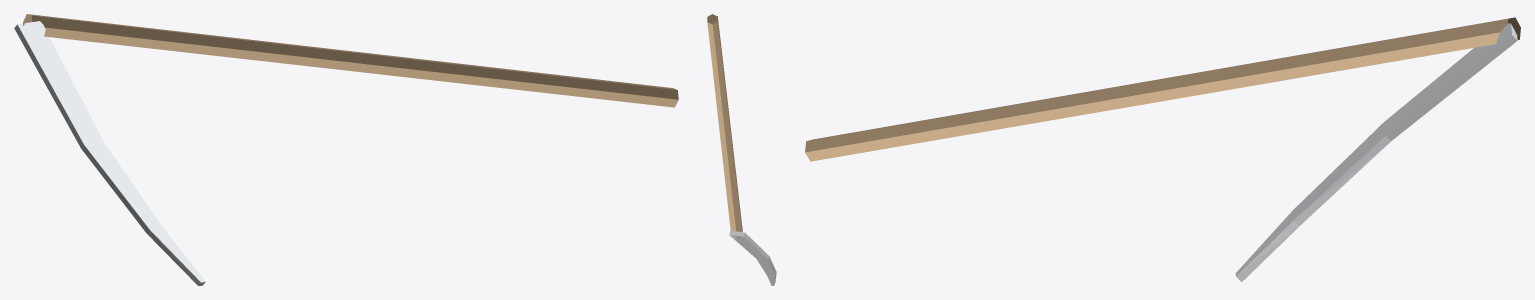
Rendered from prop_scythe_female.glb.
3 views of the same model, side by side, from view 1: azimuth 30°, elevation 25°; view 2: azimuth 150°, elevation 25°; view 3: azimuth 270°, elevation 25° (orthographic). The views are drawn at different scales.
Parts seen in each view (by area): view 1: Arm.R.Lower.Scythe.Snath, Arm.R.Lower.Scythe.Blade, Arm.R.Lower.Scythe.Blade#2, Arm.R.Lower.Scythe.Blade#3; view 2: Arm.R.Lower.Scythe.Snath, Arm.R.Lower.Scythe.Blade, Arm.R.Lower.Scythe.Blade#2, Arm.R.Lower.Scythe.Blade#3; view 3: Arm.R.Lower.Scythe.Snath, Arm.R.Lower.Scythe.Blade, Arm.R.Lower.Scythe.Blade#2, Arm.R.Lower.Scythe.Blade#3.
Boxes of the visible parts, left/top/right/bottom form: Arm.R.Lower.Scythe.Snath: left=23, top=14, right=678, bottom=107; Arm.R.Lower.Scythe.Blade: left=14, top=21, right=103, bottom=147; Arm.R.Lower.Scythe.Blade#2: left=81, top=141, right=162, bottom=233; Arm.R.Lower.Scythe.Blade#3: left=147, top=228, right=205, bottom=285; Arm.R.Lower.Scythe.Snath: left=707, top=14, right=742, bottom=238; Arm.R.Lower.Scythe.Blade: left=729, top=231, right=769, bottom=259; Arm.R.Lower.Scythe.Blade#2: left=756, top=256, right=776, bottom=276; Arm.R.Lower.Scythe.Blade#3: left=767, top=273, right=776, bottom=285; Arm.R.Lower.Scythe.Snath: left=805, top=17, right=1520, bottom=161; Arm.R.Lower.Scythe.Blade: left=1384, top=18, right=1517, bottom=141; Arm.R.Lower.Scythe.Blade#2: left=1292, top=122, right=1390, bottom=225; Arm.R.Lower.Scythe.Blade#3: left=1235, top=211, right=1299, bottom=282.
Size of the model in its own units: 0.888 by 0.613 by 1.3.
